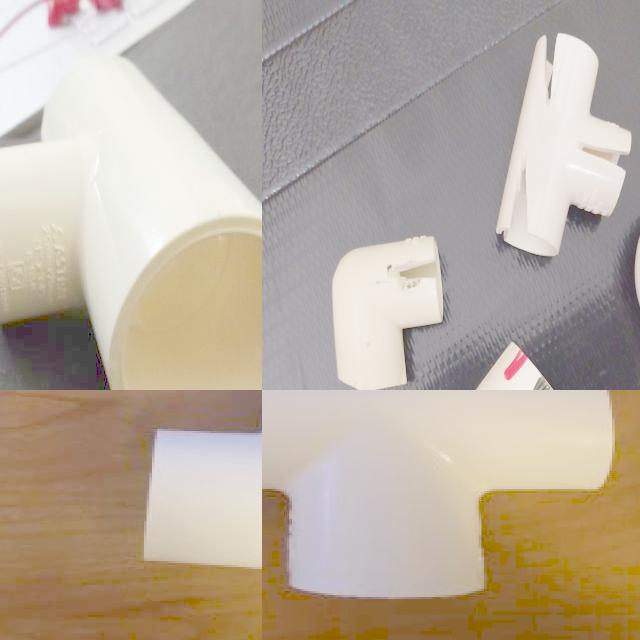Defective: (431, 302, 450, 368)
L Joint: (141, 430, 262, 572), (351, 224, 463, 370)
T Joint: (262, 390, 616, 603), (262, 280, 389, 390)
